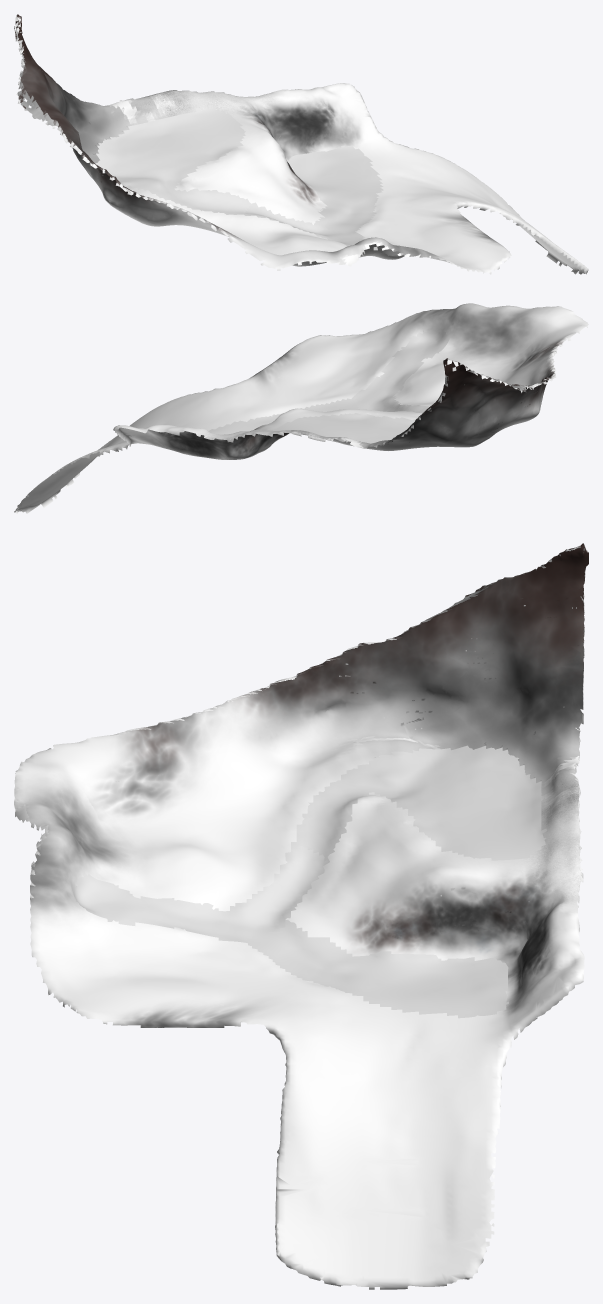
The model's file is another_map.fbx.
3 views of the same model, one above another, from view 1: azimuth 30°, elevation 25°; view 2: azimuth 150°, elevation 25°; view 3: azimuth 270°, elevation 25° (orthographic). The views are drawn at different scales.
Visible parts, largest first — view 1: map_remeshed, Snow, Snow.001, Snow.002; view 2: map_remeshed, Snow.002, Snow, Snow.001; view 3: map_remeshed, Snow, Snow.001, Snow.002.
Boxes of the visible parts, <box> form: map_remeshed: <box>14,14,588,274</box>; Snow: <box>95,107,254,215</box>; Snow.001: <box>287,145,383,233</box>; Snow.002: <box>245,202,404,259</box>; map_remeshed: <box>14,303,588,514</box>; Snow.002: <box>354,329,449,411</box>; Snow: <box>274,406,428,450</box>; Snow.001: <box>209,396,360,434</box>; map_remeshed: <box>14,543,588,1289</box>; Snow: <box>291,745,546,861</box>; Snow.001: <box>241,920,508,1018</box>; Snow.002: <box>73,845,329,941</box>.
Bounding box in the file's own units: 29349 × 17052 × 20665.
Materials: 1 (1 with a texture image).
